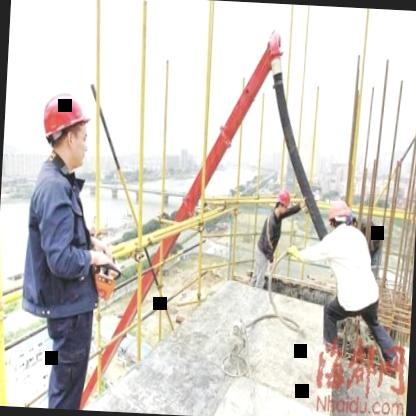helmet: (36, 78, 98, 170), (324, 200, 356, 234), (272, 184, 293, 218)
